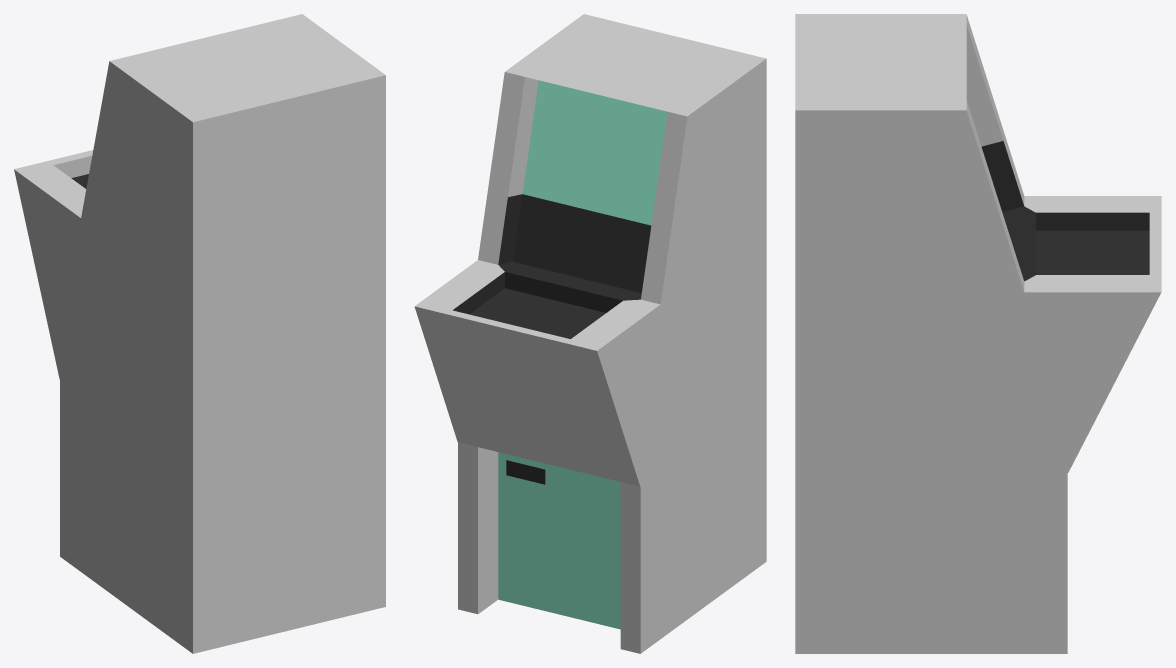
File: GERADOR PEQUENO1.fbx
3 renders of one model, left to right at view 1: azimuth 30°, elevation 25°; view 2: azimuth 150°, elevation 25°; view 3: azimuth 270°, elevation 25°, orthographic. The views are drawn at different scales.
Visible parts, largest first — view 1: Cube; view 2: Cube; view 3: Cube.
Boxes of the visible parts, x1,y1,x2,y2 form: Cube: [14, 14, 385, 653]; Cube: [414, 14, 766, 653]; Cube: [795, 14, 1161, 653].
Size of the model in its own units: 0.5996 by 1.58 by 0.963.
